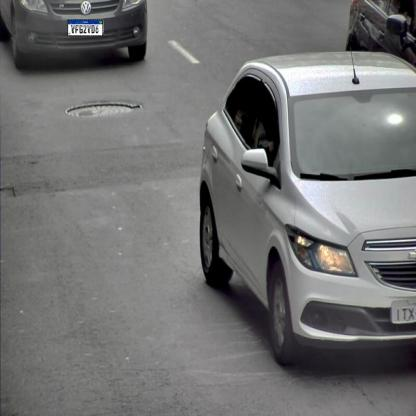PlacaM: (68, 19, 103, 36)
